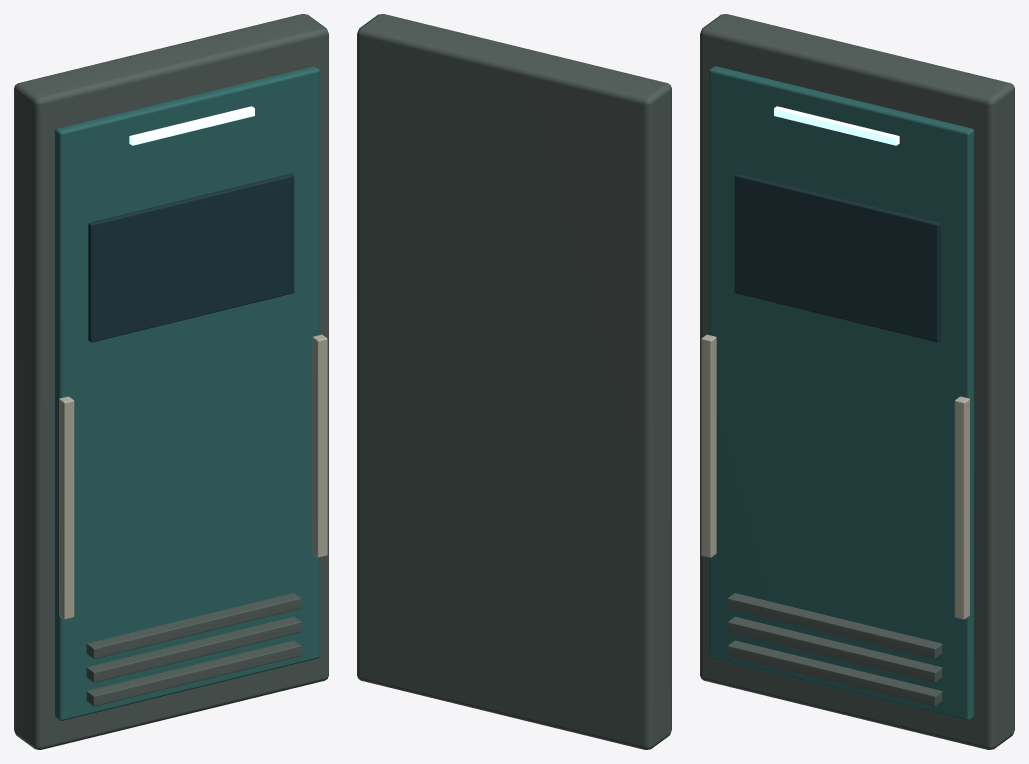
File: door_leaf.glb
The picture shows the model from 3 angles, left to right: view 1: azimuth 30°, elevation 25°; view 2: azimuth 150°, elevation 25°; view 3: azimuth 330°, elevation 25°; orthographic projection.
Visible parts, largest first — view 1: door_leaf; view 2: door_leaf; view 3: door_leaf.
Part boxes in pixels (x1,y1,x2,y2): door_leaf: (14, 14, 328, 749); door_leaf: (357, 14, 671, 749); door_leaf: (700, 14, 1014, 749).
Size of the model in its own units: 1.56 by 3.3 by 0.355.
